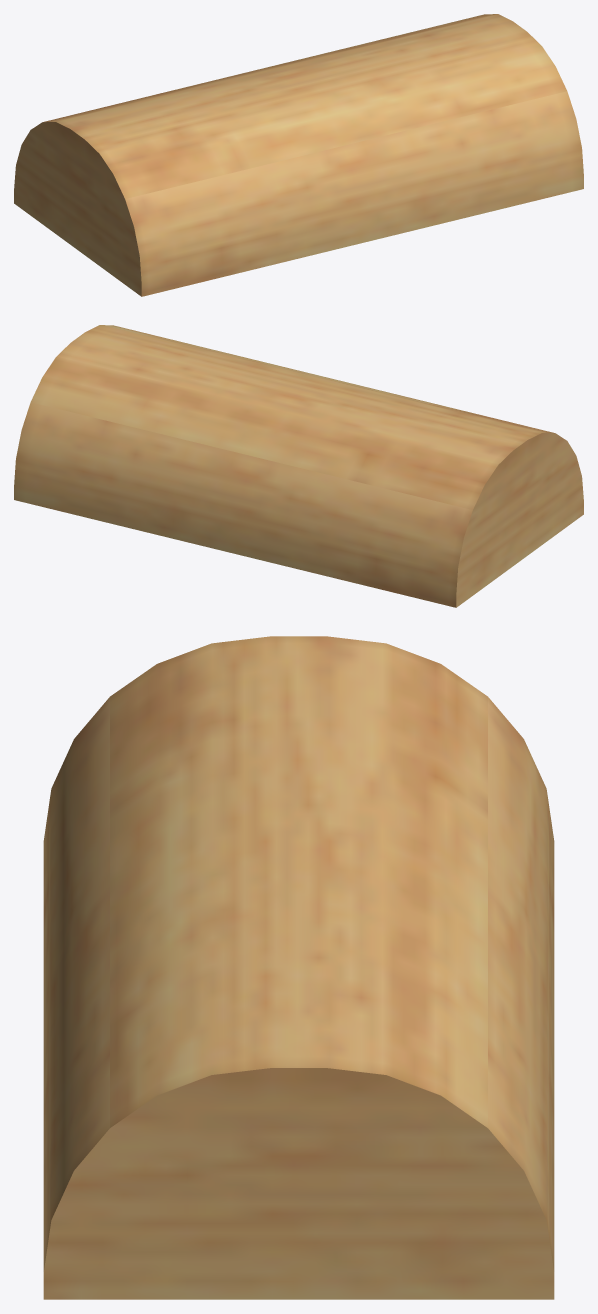
Rendered from SemiCylinderPink.fbx.
3 renders of one model, top to bottom at view 1: azimuth 30°, elevation 25°; view 2: azimuth 150°, elevation 25°; view 3: azimuth 270°, elevation 25°, orthographic. The views are drawn at different scales.
Parts seen in each view (by area): view 1: Cube.015; view 2: Cube.015; view 3: Cube.015.
Part boxes in pixels (bbox=[...]): Cube.015: bbox=[14, 14, 583, 296]; Cube.015: bbox=[14, 325, 583, 607]; Cube.015: bbox=[43, 636, 554, 1299].
Bounding box in the file's own units: 800 × 200 × 400.
